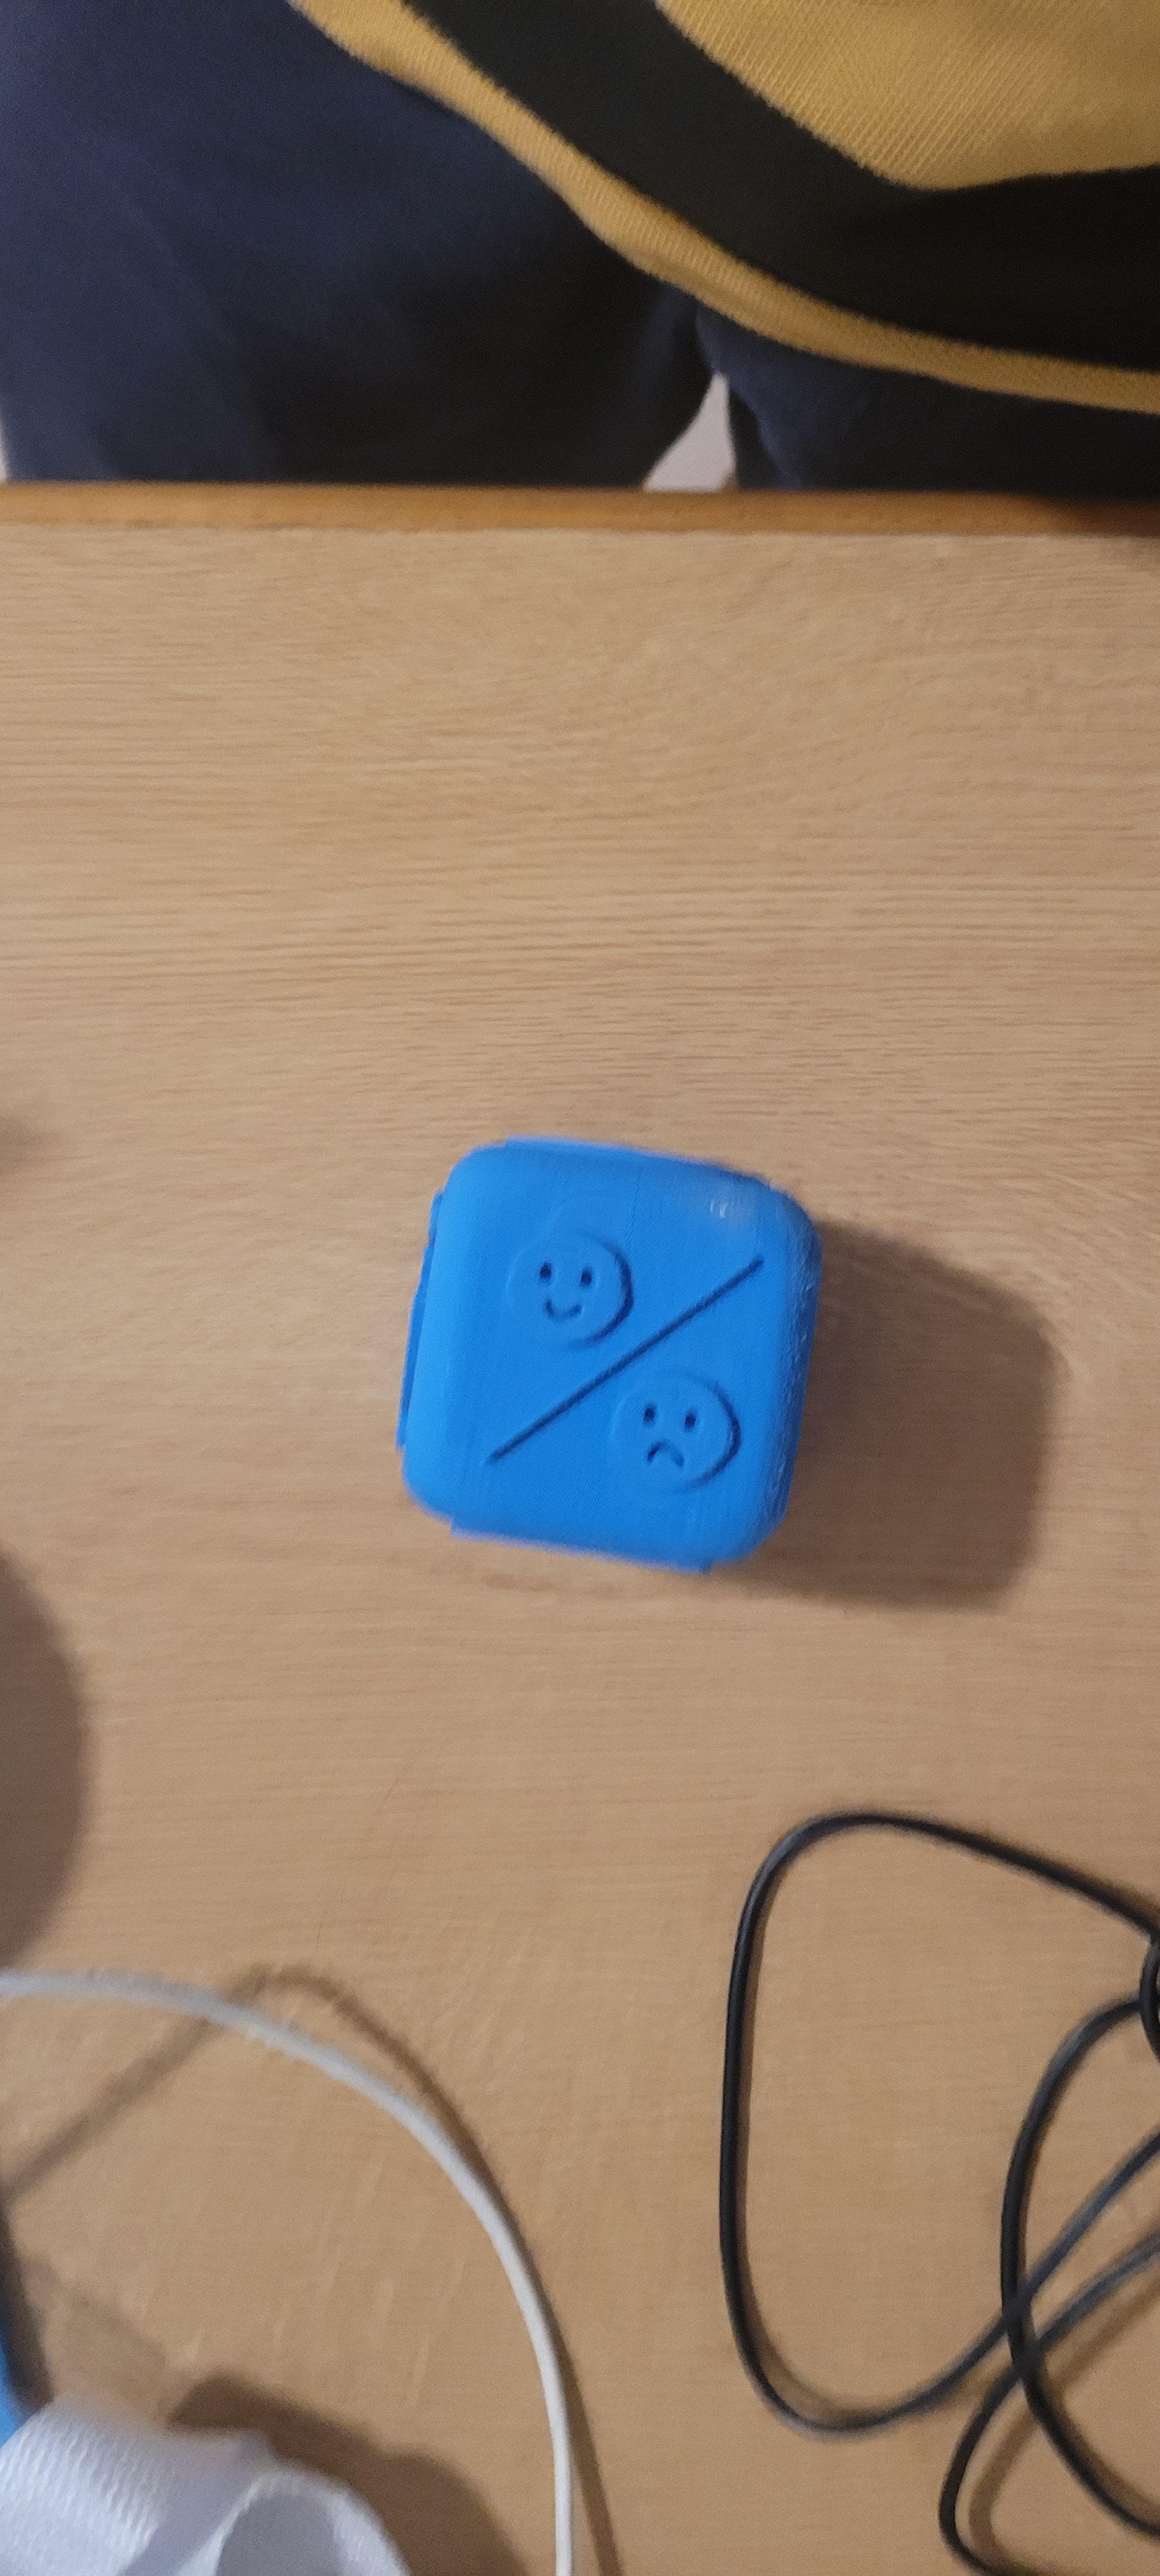Like/Dislike: (411, 1125, 790, 1572)
